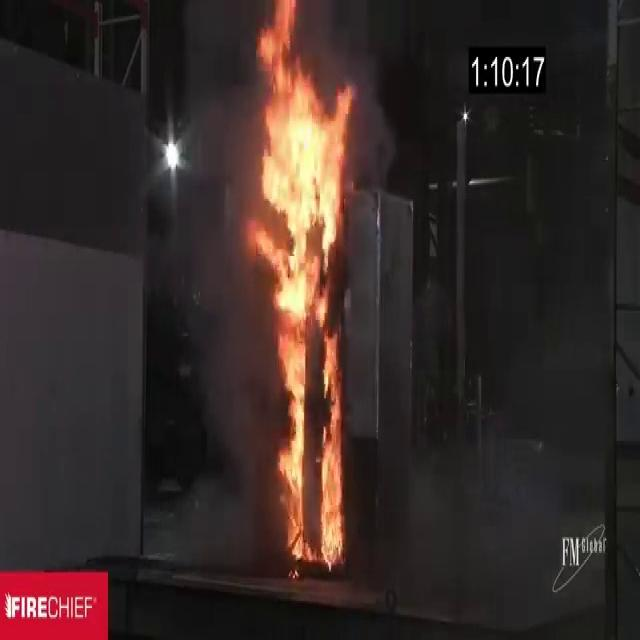fire: (239, 6, 351, 580)
